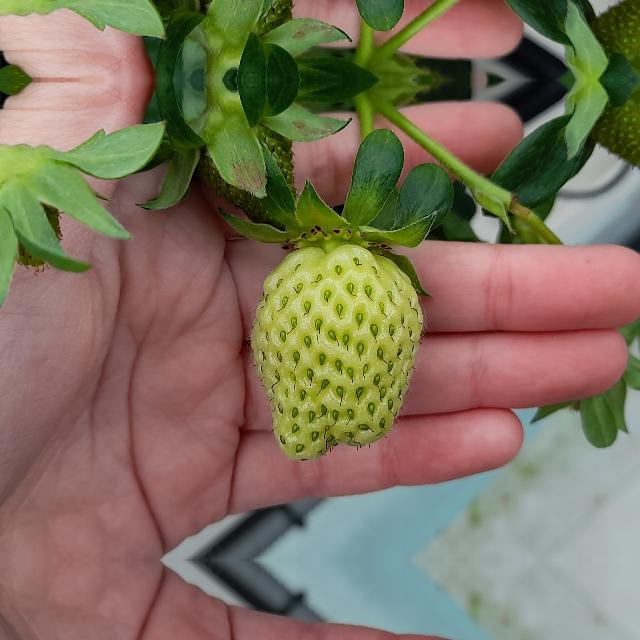Health_25: (250, 244, 422, 460)
